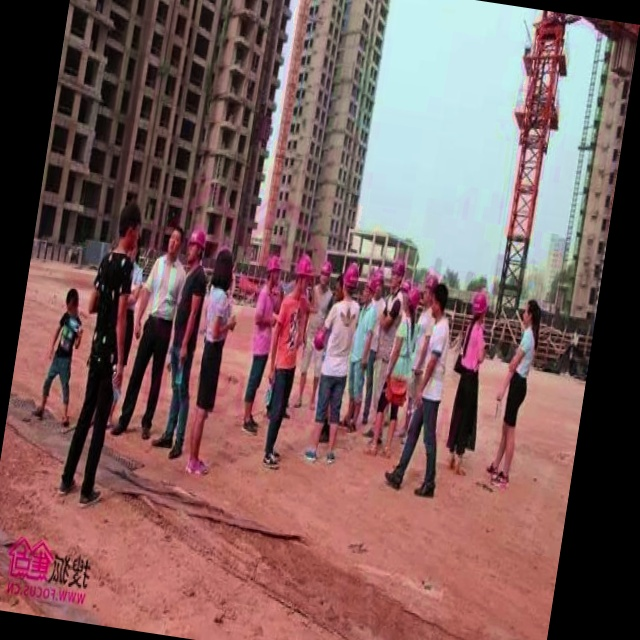Sin_Casco_Mascarrilla: (115, 200, 144, 250), (429, 281, 451, 321), (165, 224, 185, 260)
Sin_Chaleco: (85, 249, 138, 366), (321, 298, 362, 377), (201, 284, 237, 343)
